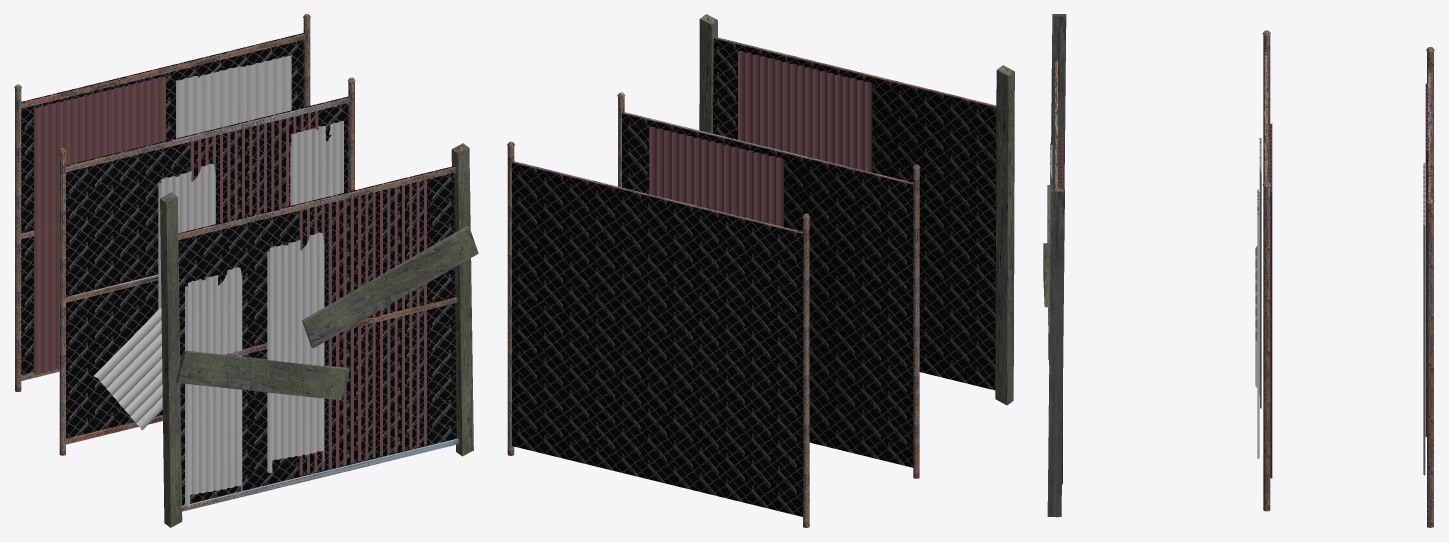
Rendered from Fences.fbx.
The picture shows the model from 3 angles, left to right: view 1: azimuth 30°, elevation 25°; view 2: azimuth 150°, elevation 25°; view 3: azimuth 270°, elevation 25°; orthographic projection. The views are drawn at different scales.
Visible parts, largest first — view 1: Group1, Group2, Group3; view 2: Group3, Group1, Group2; view 3: Group1, Group2, Group3.
Part boxes in pixels (bbox=[...]): Group1: bbox=[160, 143, 478, 527]; Group2: bbox=[59, 77, 355, 455]; Group3: bbox=[14, 14, 310, 391]; Group3: bbox=[507, 141, 810, 527]; Group1: bbox=[699, 14, 1014, 405]; Group2: bbox=[617, 92, 920, 478]; Group1: bbox=[1043, 14, 1066, 517]; Group2: bbox=[1255, 30, 1272, 511]; Group3: bbox=[1423, 47, 1434, 527].
Size of the model in its own units: 100 by 95.72 by 96.62.
